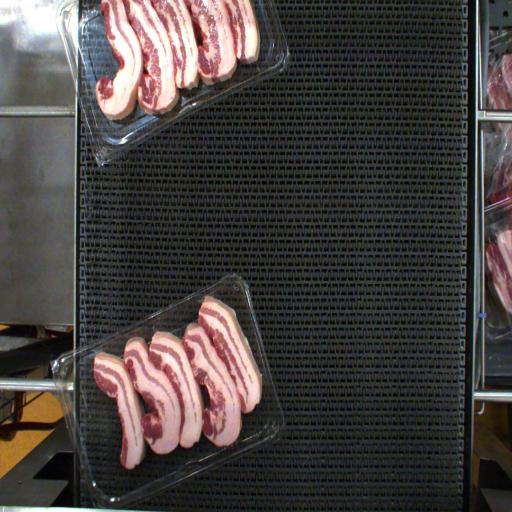packaging-error: (197, 288, 215, 303), (90, 344, 104, 356)
